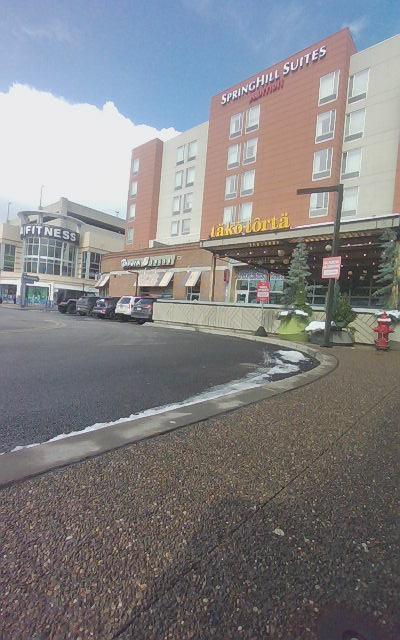curb: (0, 347, 399, 639)
road: (0, 305, 314, 453)
